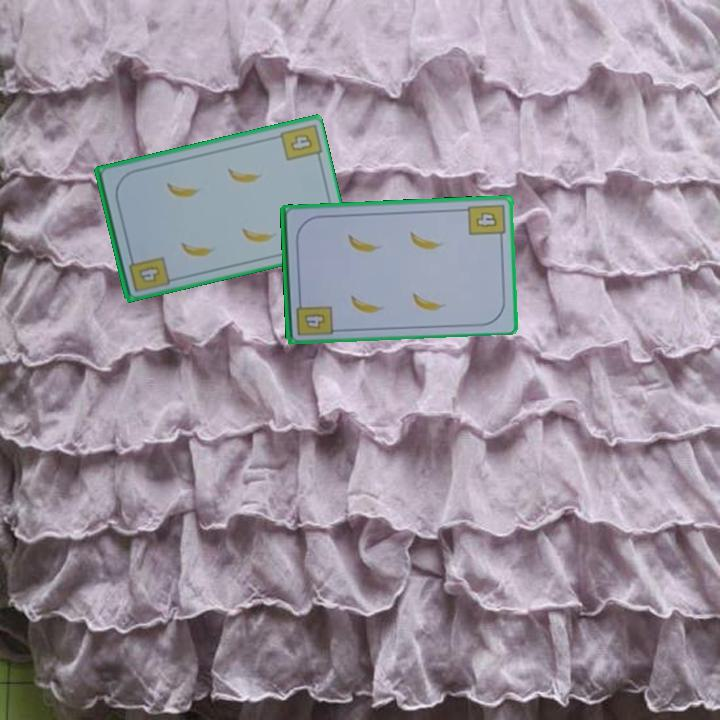4b: (125, 251, 171, 295), (464, 200, 508, 244), (292, 294, 335, 339), (287, 130, 316, 154)
